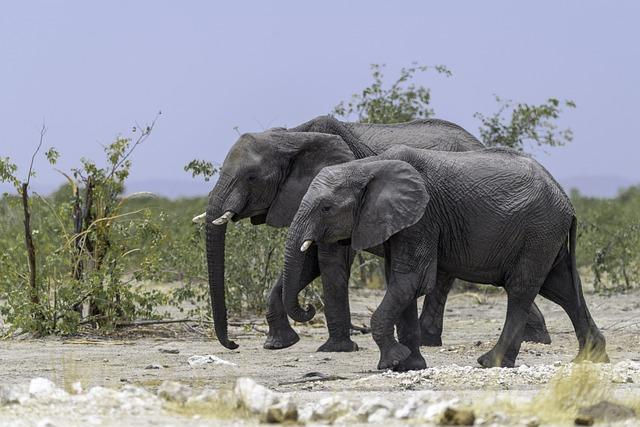Non_Gorille: (152, 39, 640, 402)
